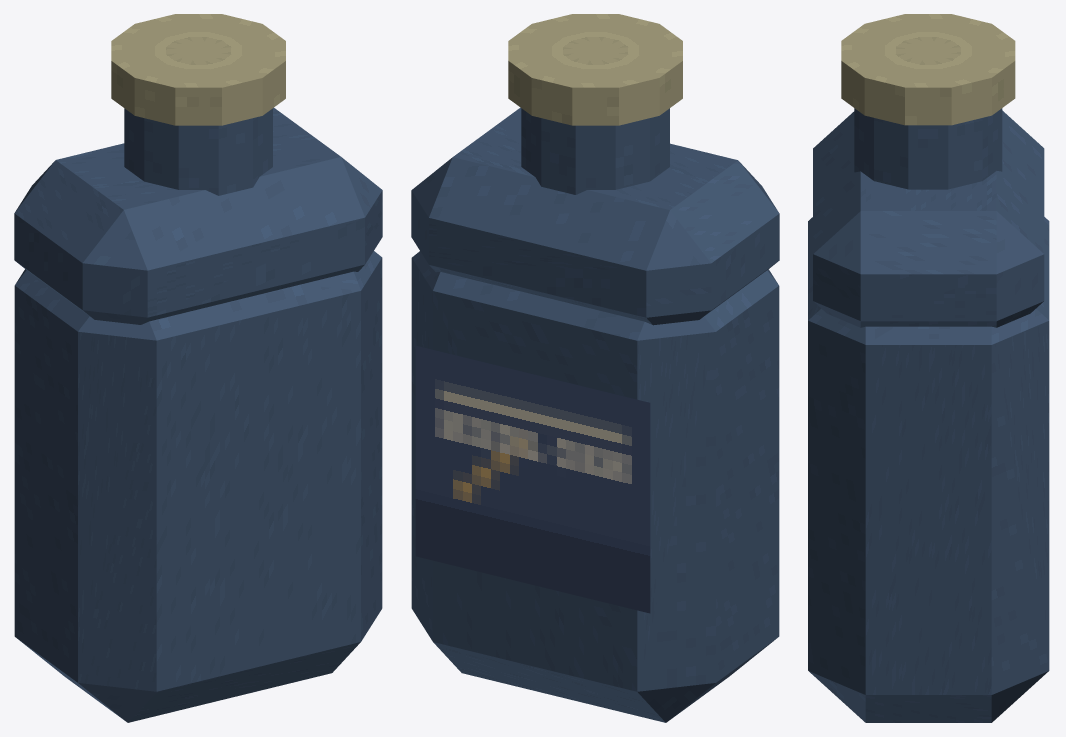
File: bristol_sherry.glb
3 views of the same model, side by side, from view 1: azimuth 30°, elevation 25°; view 2: azimuth 150°, elevation 25°; view 3: azimuth 270°, elevation 25° (orthographic).
Visible parts, largest first — view 1: block_rectangular glass bottle, block_sloping square shoulders, block_bottle closure, block_short neck; view 2: block_rectangular glass bottle, block_pressed paper label, block_sloping square shoulders, block_bottle closure, block_short neck; view 3: block_rectangular glass bottle, block_sloping square shoulders, block_bottle closure, block_short neck.
Boxes of the visible parts, bbox=[...] form: block_rectangular glass bottle: bbox=[14, 251, 382, 722]; block_sloping square shoulders: bbox=[14, 108, 382, 324]; block_bottle closure: bbox=[111, 14, 285, 125]; block_short neck: bbox=[124, 108, 272, 195]; block_rectangular glass bottle: bbox=[411, 251, 779, 722]; block_pressed paper label: bbox=[415, 345, 650, 613]; block_sloping square shoulders: bbox=[411, 107, 779, 325]; block_bottle closure: bbox=[508, 14, 682, 125]; block_short neck: bbox=[521, 108, 669, 194]; block_rectangular glass bottle: bbox=[808, 217, 1049, 722]; block_sloping square shoulders: bbox=[813, 110, 1044, 327]; block_bottle closure: bbox=[841, 14, 1015, 125]; block_short neck: bbox=[854, 108, 1002, 189].
Size of the model in its own units: 0.0829 by 0.1625 by 0.0577.
Materials: 1 (1 with a texture image).
